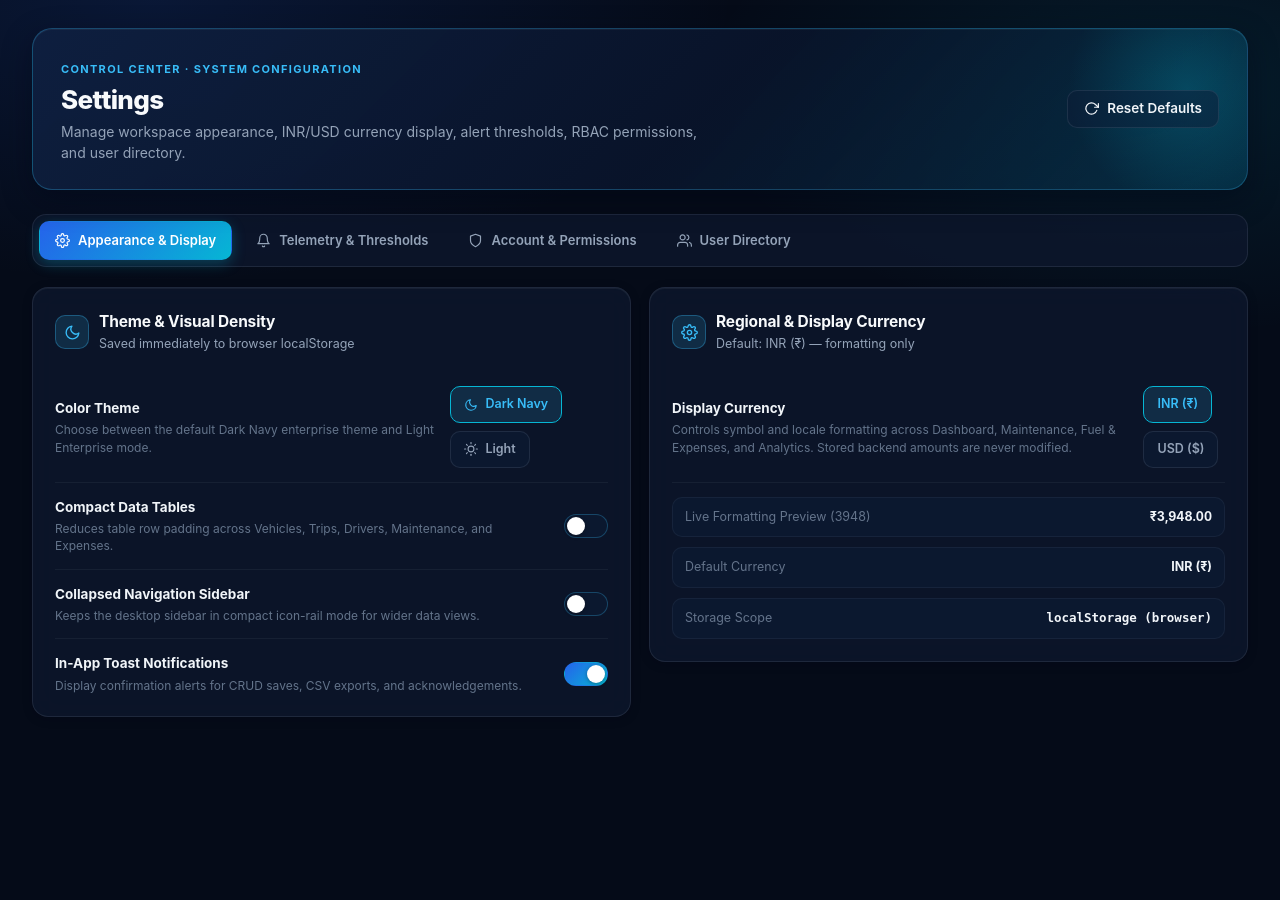
Test case: P6-4 — SettingsPage User Directory enforces ADMIN delete, FLEET_MANAGER read-only, and blocks restricted roles
Later steps or results of the test are not shown.
Click the tab "User Directory": (734, 240) [660,221,807,260]
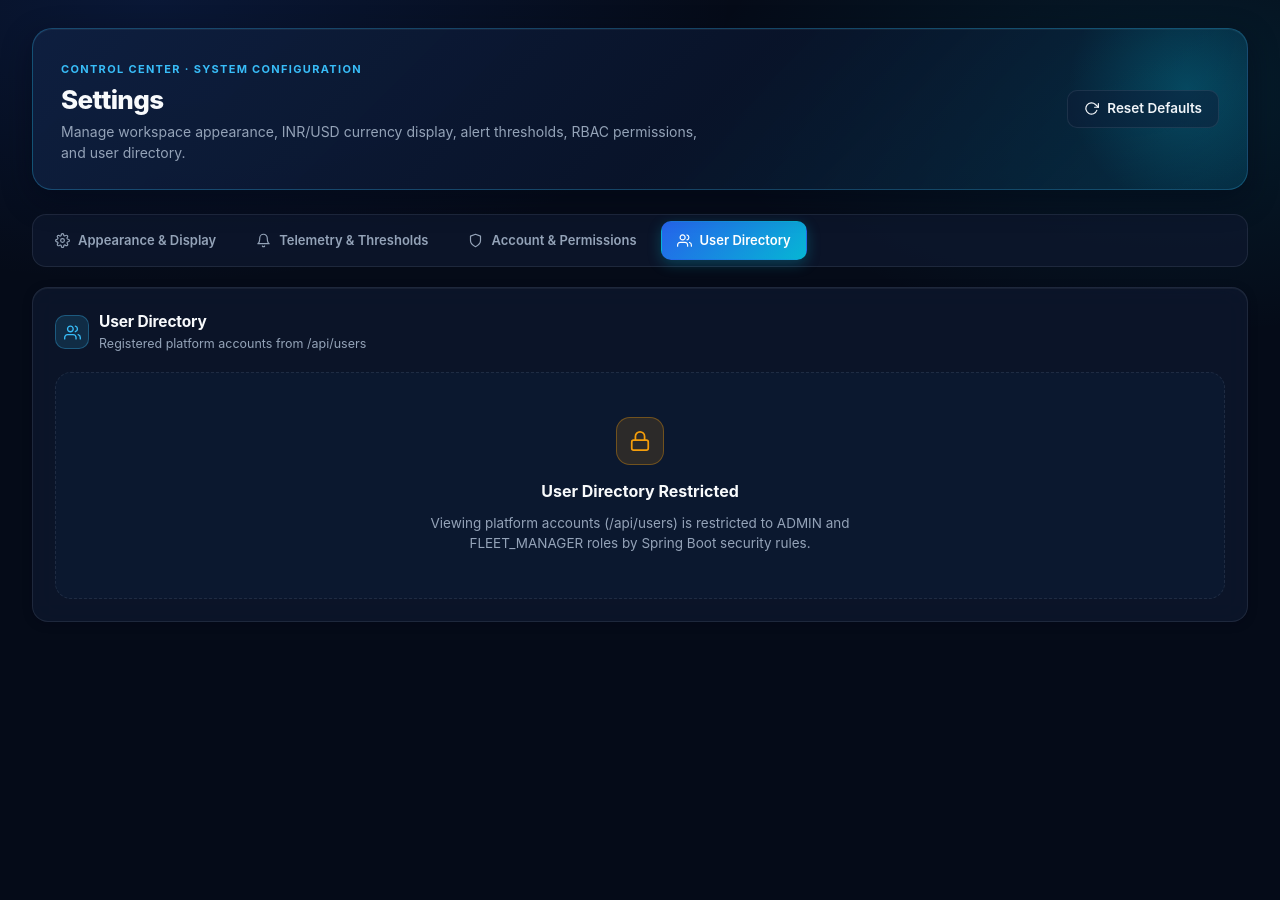
expect the heading "User Directory Restricted" is shown: met, box [541,479,739,503]
